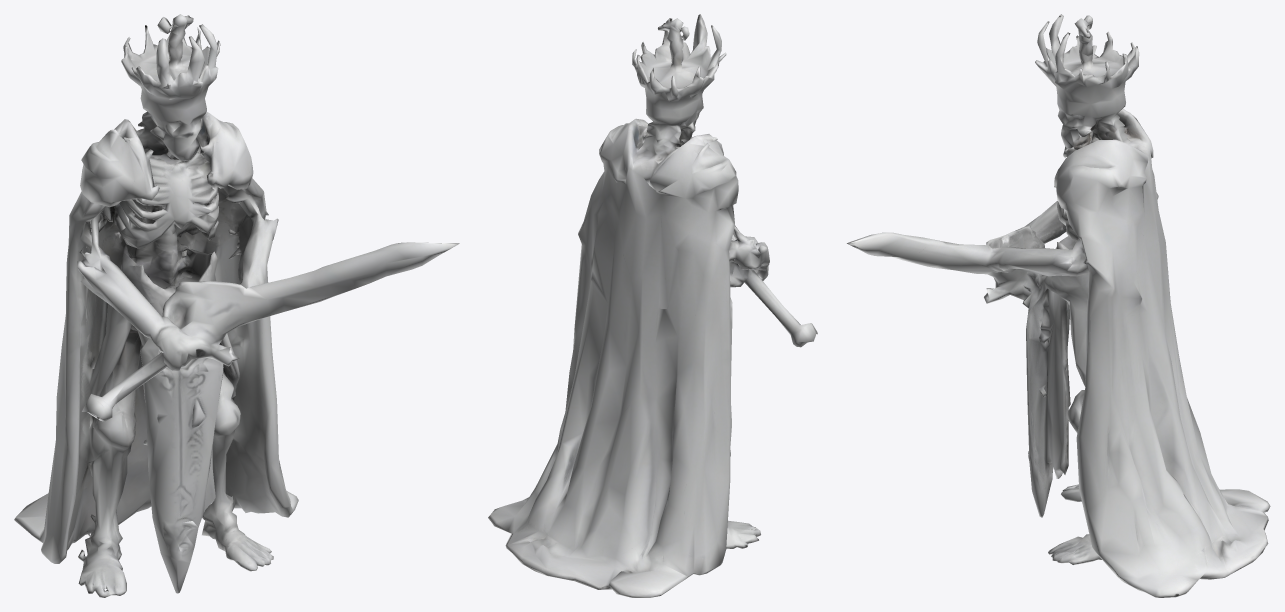
Rendered from King.fbx.
The picture shows the model from 3 angles, left to right: view 1: azimuth 30°, elevation 25°; view 2: azimuth 150°, elevation 25°; view 3: azimuth 270°, elevation 25°; orthographic projection. The views are drawn at different scales.
Parts seen in each view (by area): view 1: Mesh_0; view 2: Mesh_0; view 3: Mesh_0.
Part boxes in pixels (left/top/right/bottom): Mesh_0: left=14, top=14, right=459, bottom=597; Mesh_0: left=488, top=14, right=817, bottom=597; Mesh_0: left=847, top=14, right=1270, bottom=597.
Bounding box in the file's own units: 107 × 200 × 150.
1 material, 1 textured.
